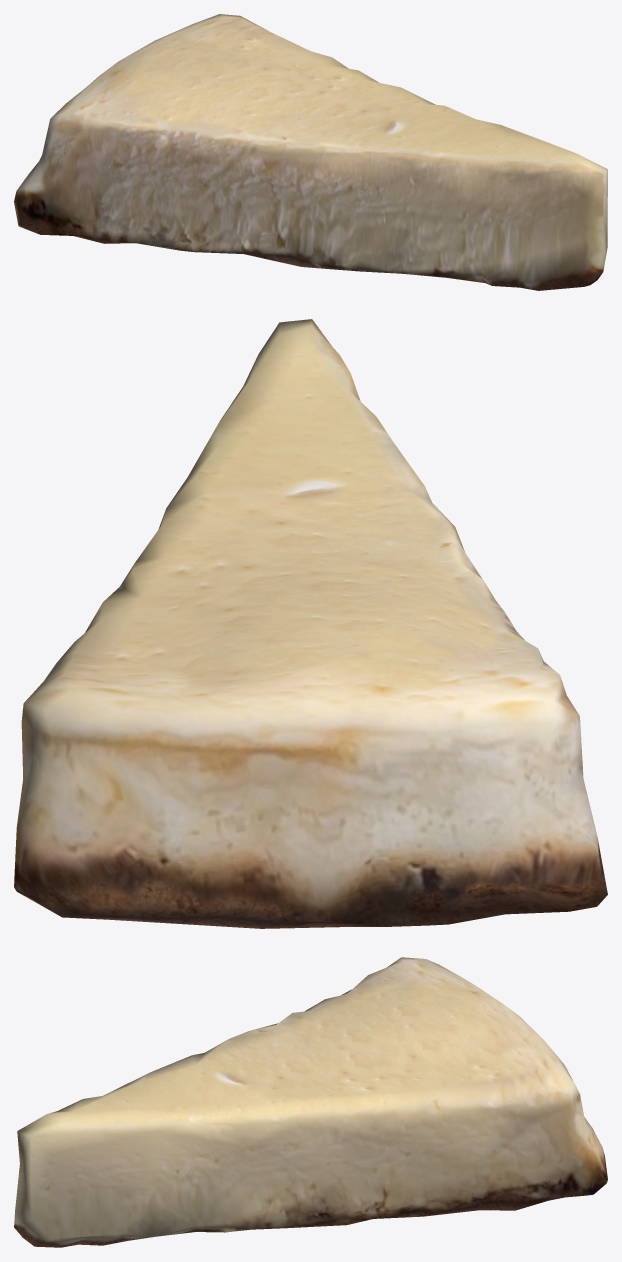
File: Cake.fbx
The picture shows the model from 3 angles, top to bottom: view 1: azimuth 30°, elevation 25°; view 2: azimuth 150°, elevation 25°; view 3: azimuth 270°, elevation 25°; orthographic projection. The views are drawn at different scales.
Visible parts, largest first — view 1: Cake; view 2: Cake; view 3: Cake.
Boxes of the visible parts, box(x1,y1,x2,y2) form: Cake: box(14, 14, 607, 290); Cake: box(14, 319, 607, 928); Cake: box(14, 957, 607, 1247).
Size of the model in its own units: 8.09 by 2.72 by 10.31.
